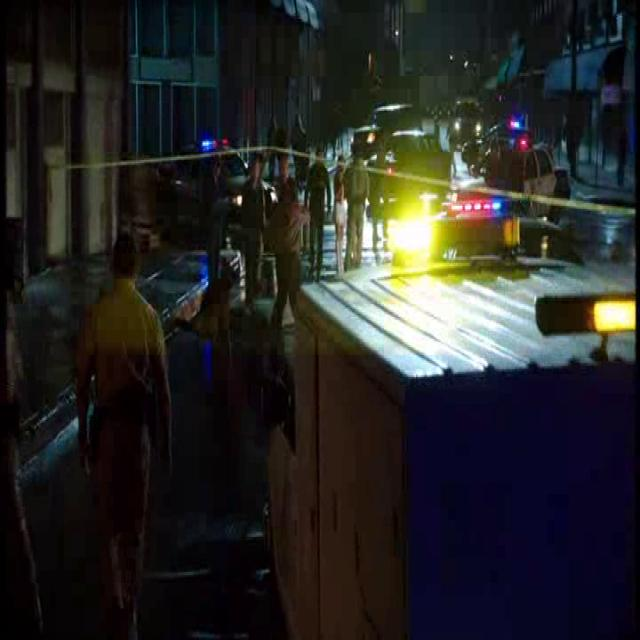People: (71, 187, 172, 611)
